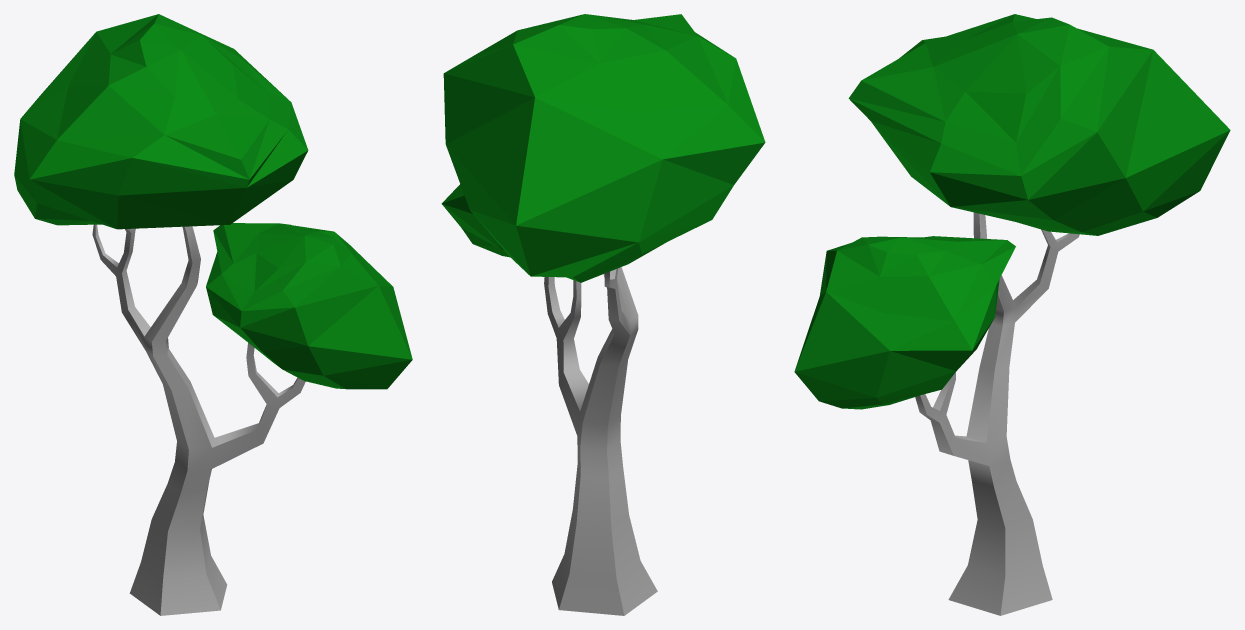
Rendered from SM_Tree2.fbx.
3 views of the same model, side by side, from view 1: azimuth 30°, elevation 25°; view 2: azimuth 150°, elevation 25°; view 3: azimuth 270°, elevation 25° (orthographic). The views are drawn at different scales.
Parts seen in each view (by area): view 1: polySurface7; view 2: polySurface7; view 3: polySurface7.
Boxes of the visible parts, <box> form: polySurface7: <box>14,14,412,615</box>; polySurface7: <box>441,14,765,615</box>; polySurface7: <box>794,14,1230,615</box>.
Size of the model in its own units: 509 by 851 by 590.
